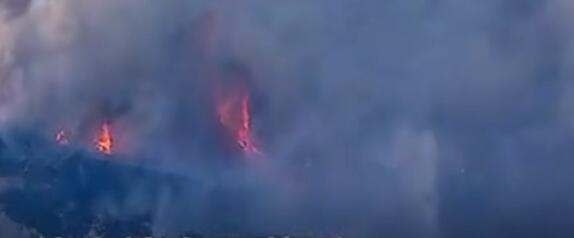fire: (205, 77, 268, 168), (47, 114, 127, 164)
yanwu: (0, 0, 574, 237)
